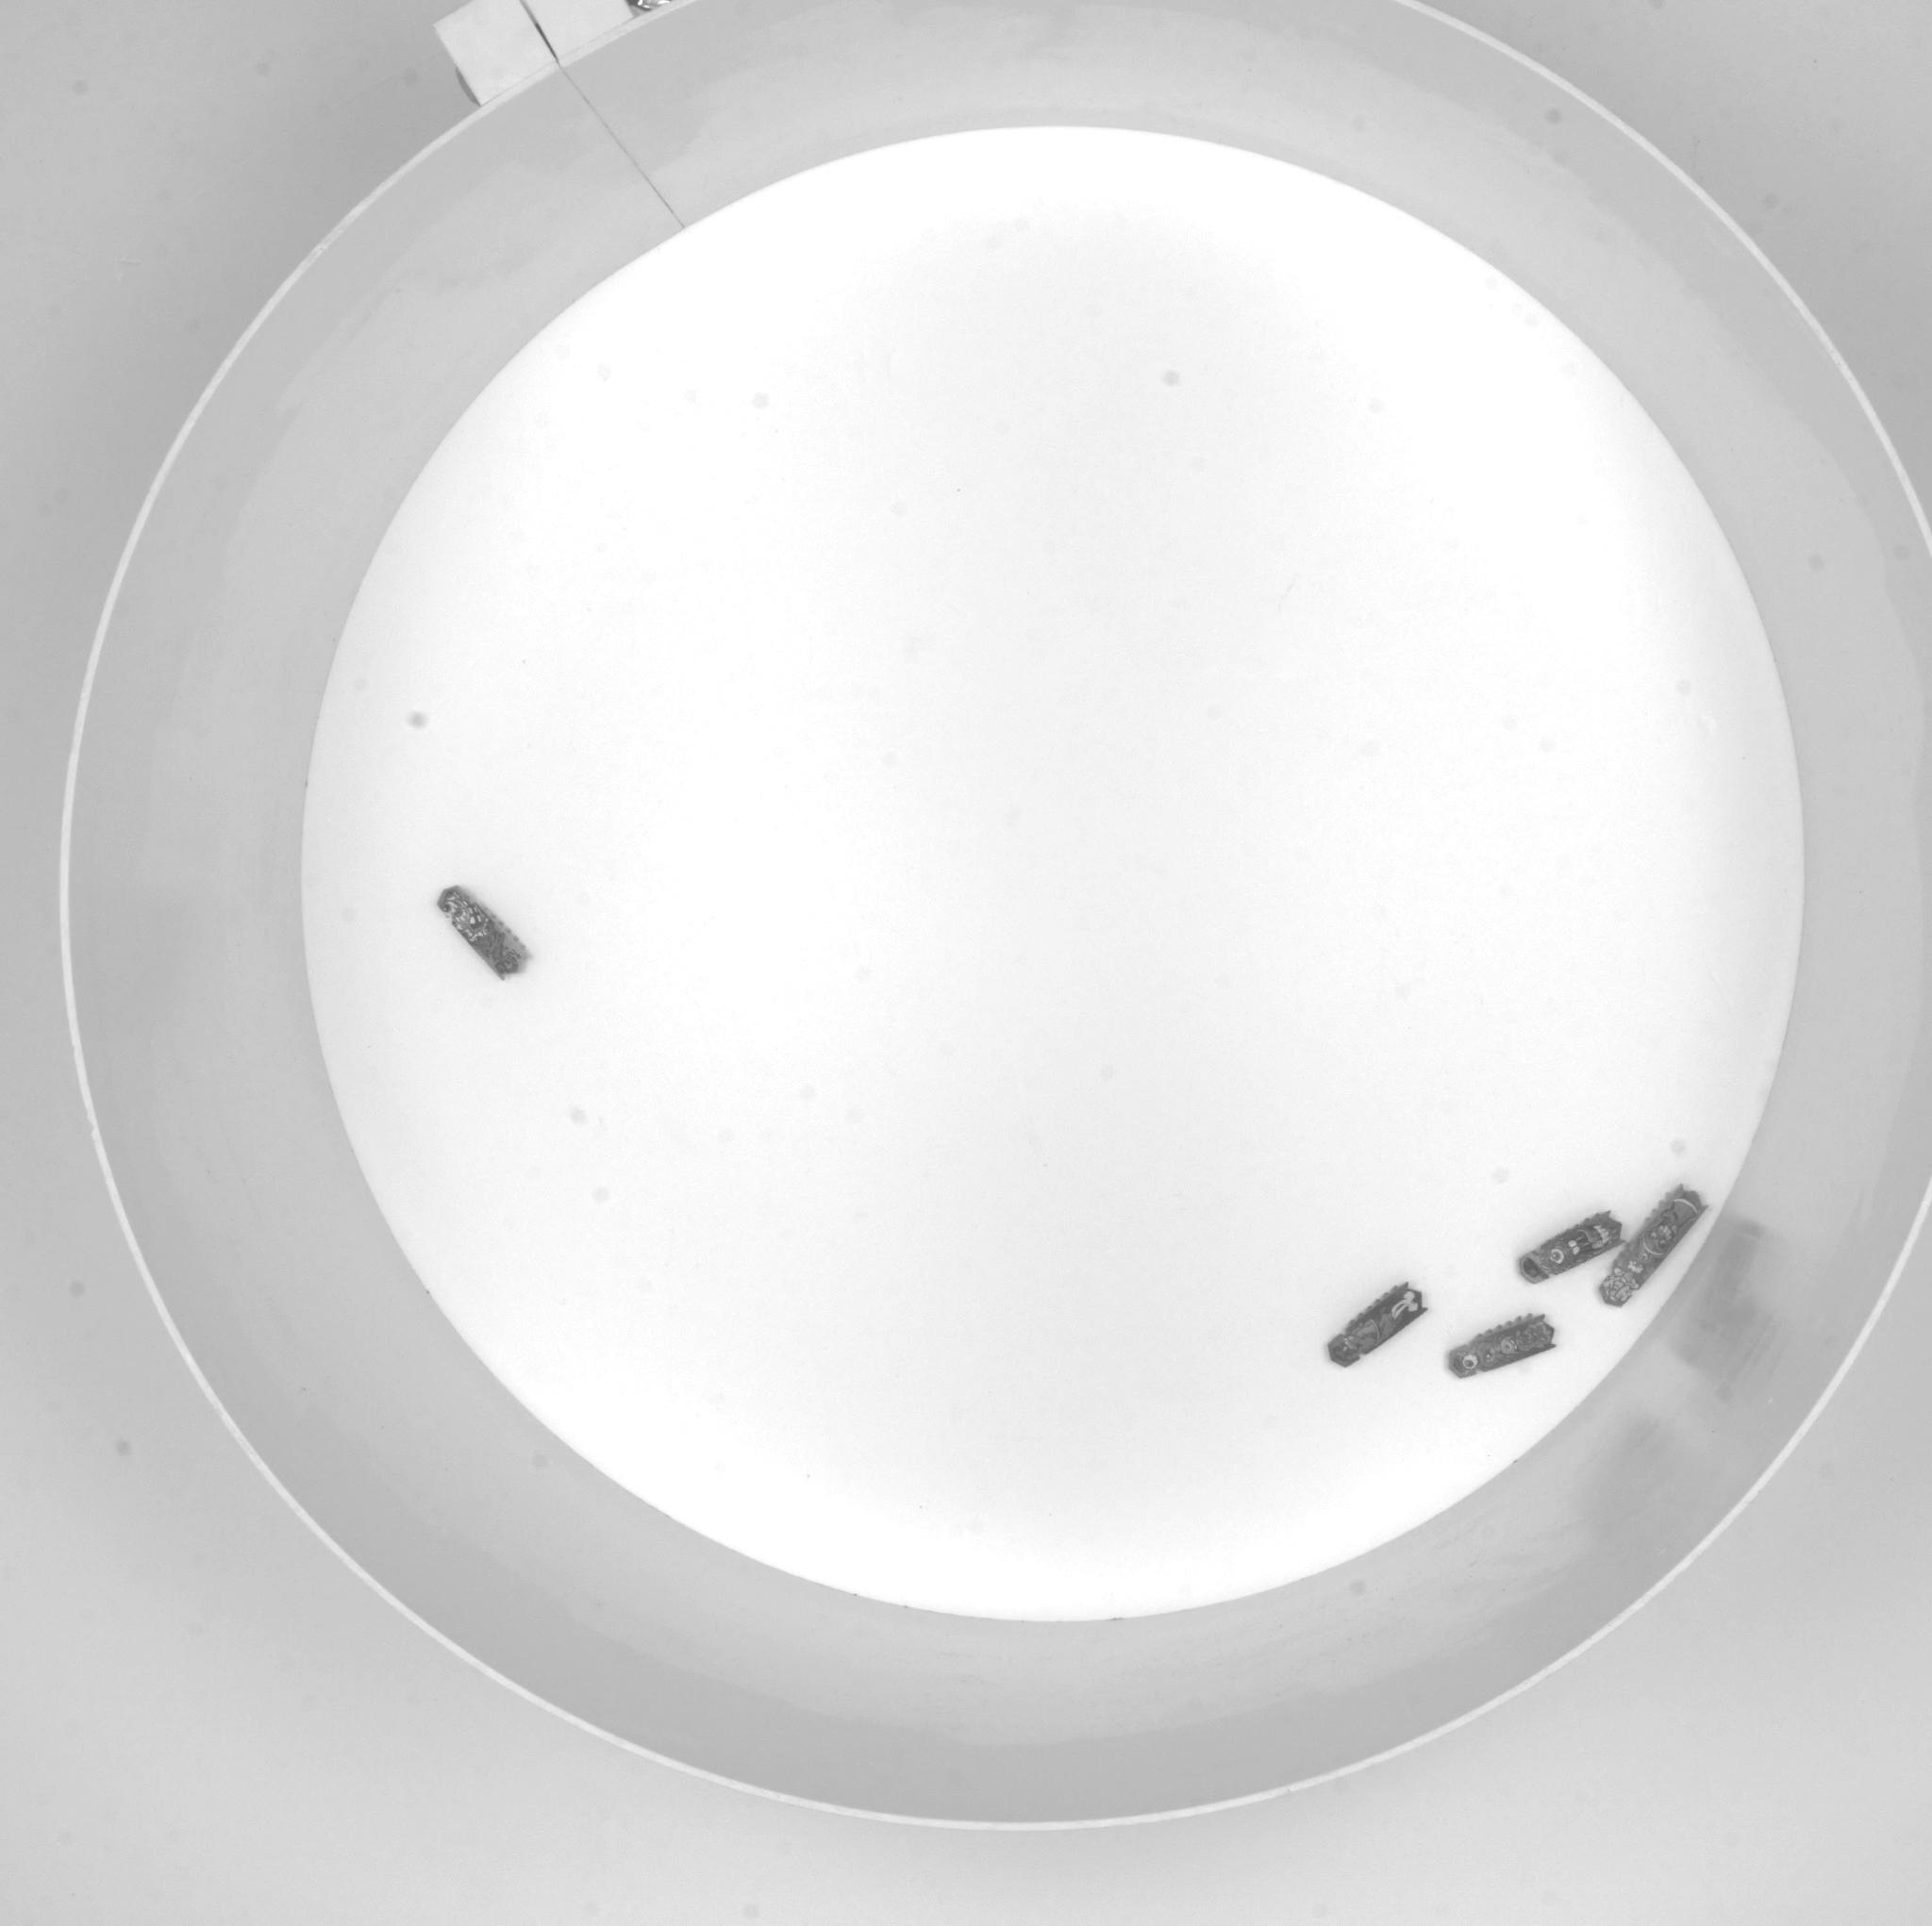bug: (1599, 1185, 1704, 1307), (438, 885, 529, 979), (1327, 1282, 1426, 1367), (1517, 1212, 1621, 1282), (1447, 1314, 1554, 1377)
